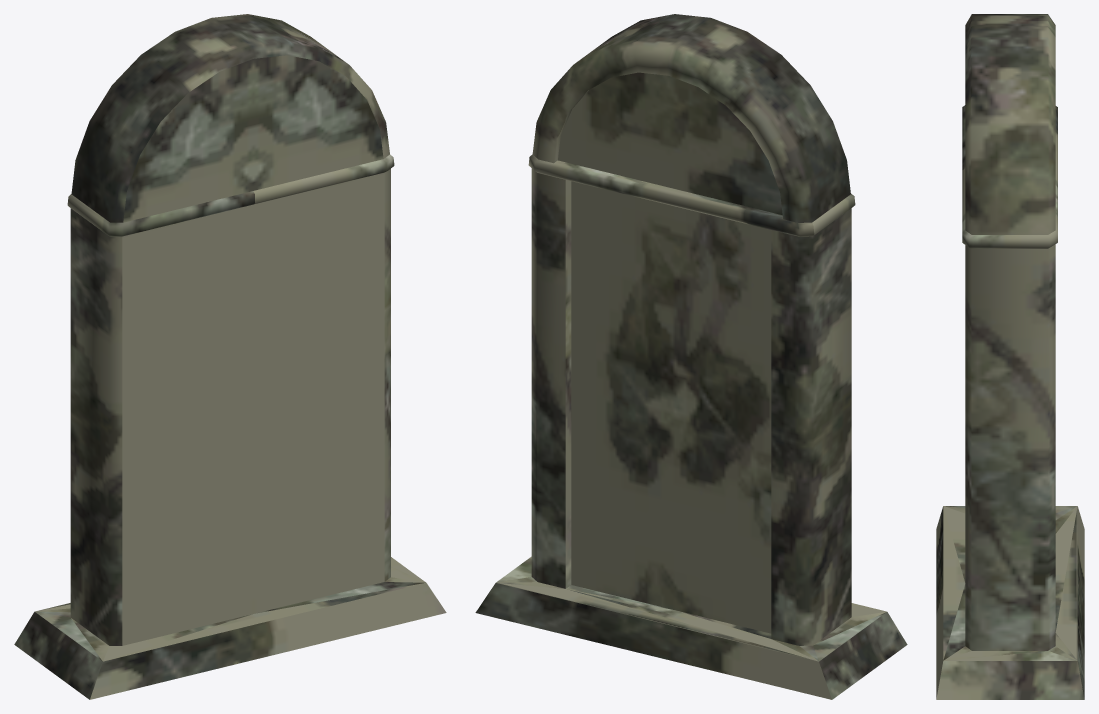
Rendered from tombe.fbx.
The picture shows the model from 3 angles, left to right: view 1: azimuth 30°, elevation 25°; view 2: azimuth 150°, elevation 25°; view 3: azimuth 270°, elevation 25°; orthographic projection.
Parts seen in each view (by area): view 1: bayomat0; view 2: bayomat0; view 3: bayomat0.
Part boxes in pixels (box(x1,y1,x2,y2)): bayomat0: box(14, 14, 446, 699); bayomat0: box(475, 14, 907, 699); bayomat0: box(936, 14, 1084, 699).
Bounding box in the file's own units: 1.11 × 1.77 × 0.405.
